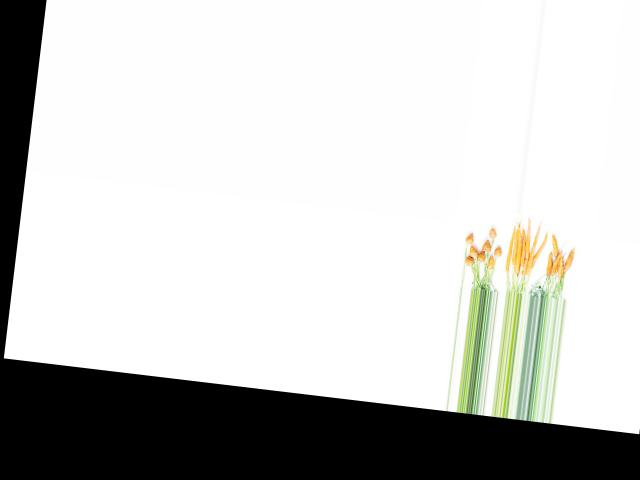carrot: (465, 229, 477, 245)
